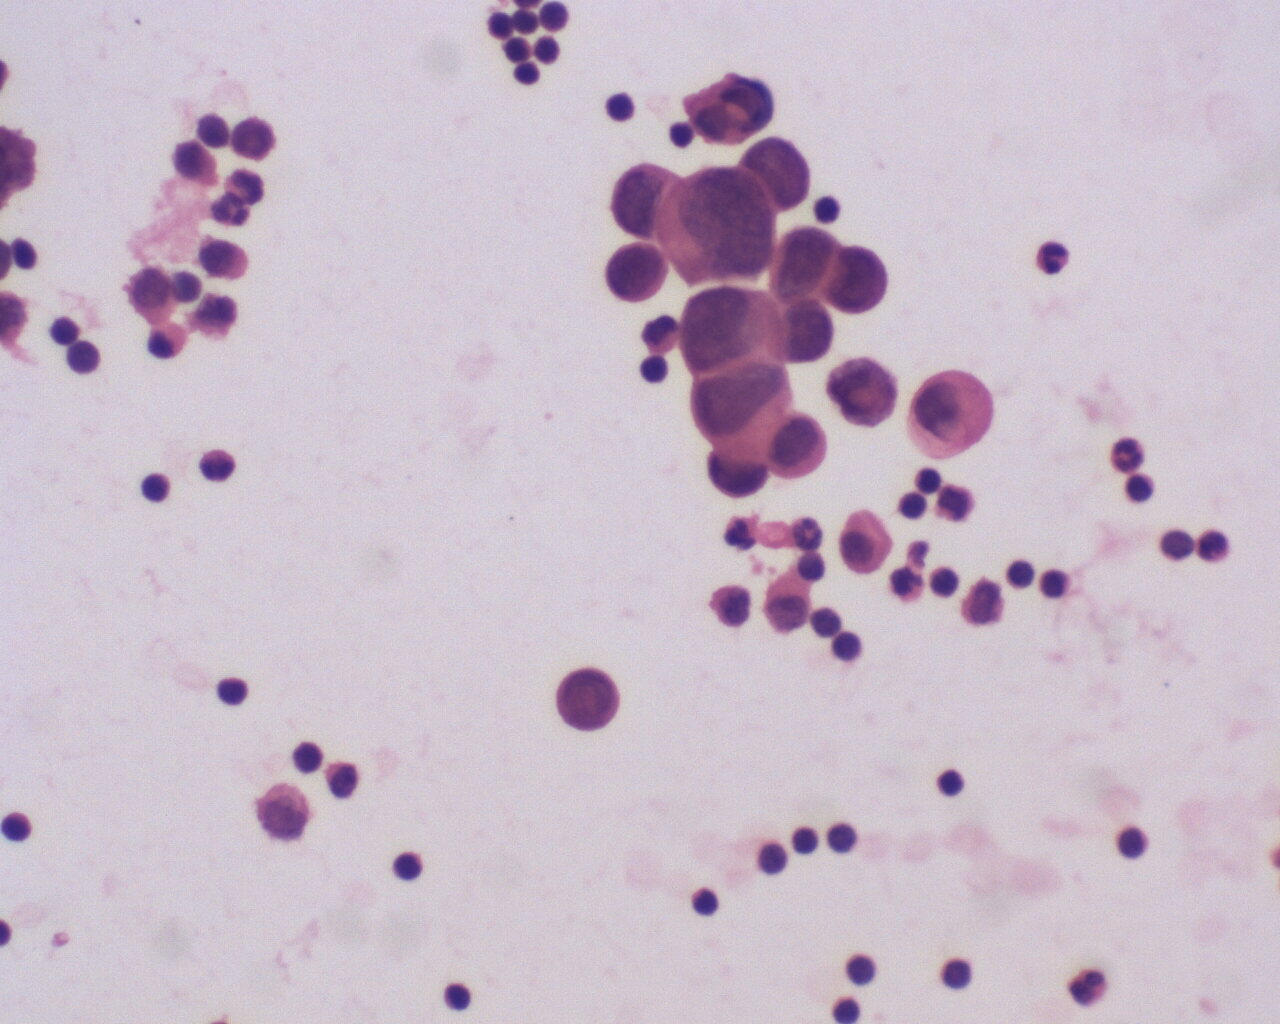ab: (657, 165, 779, 288), (671, 282, 789, 374), (684, 367, 799, 457), (605, 162, 678, 245), (765, 292, 839, 367), (827, 352, 898, 430), (553, 664, 622, 737), (761, 411, 830, 483), (824, 245, 891, 318), (603, 237, 670, 309), (257, 778, 315, 851)
lymph: (1111, 815, 1155, 862), (839, 948, 886, 992), (436, 977, 484, 1019), (387, 845, 430, 887), (1004, 555, 1046, 598), (211, 664, 249, 709), (285, 736, 323, 779), (827, 819, 868, 858), (831, 626, 869, 668), (604, 83, 638, 126), (138, 465, 174, 504), (690, 885, 725, 920), (635, 354, 672, 387), (936, 765, 965, 802)
meso: (835, 507, 898, 580)
neutro: (1106, 429, 1153, 475), (1027, 236, 1076, 279)
